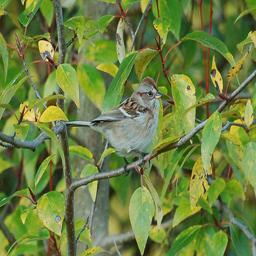Sparrow: (59, 77, 163, 176)
